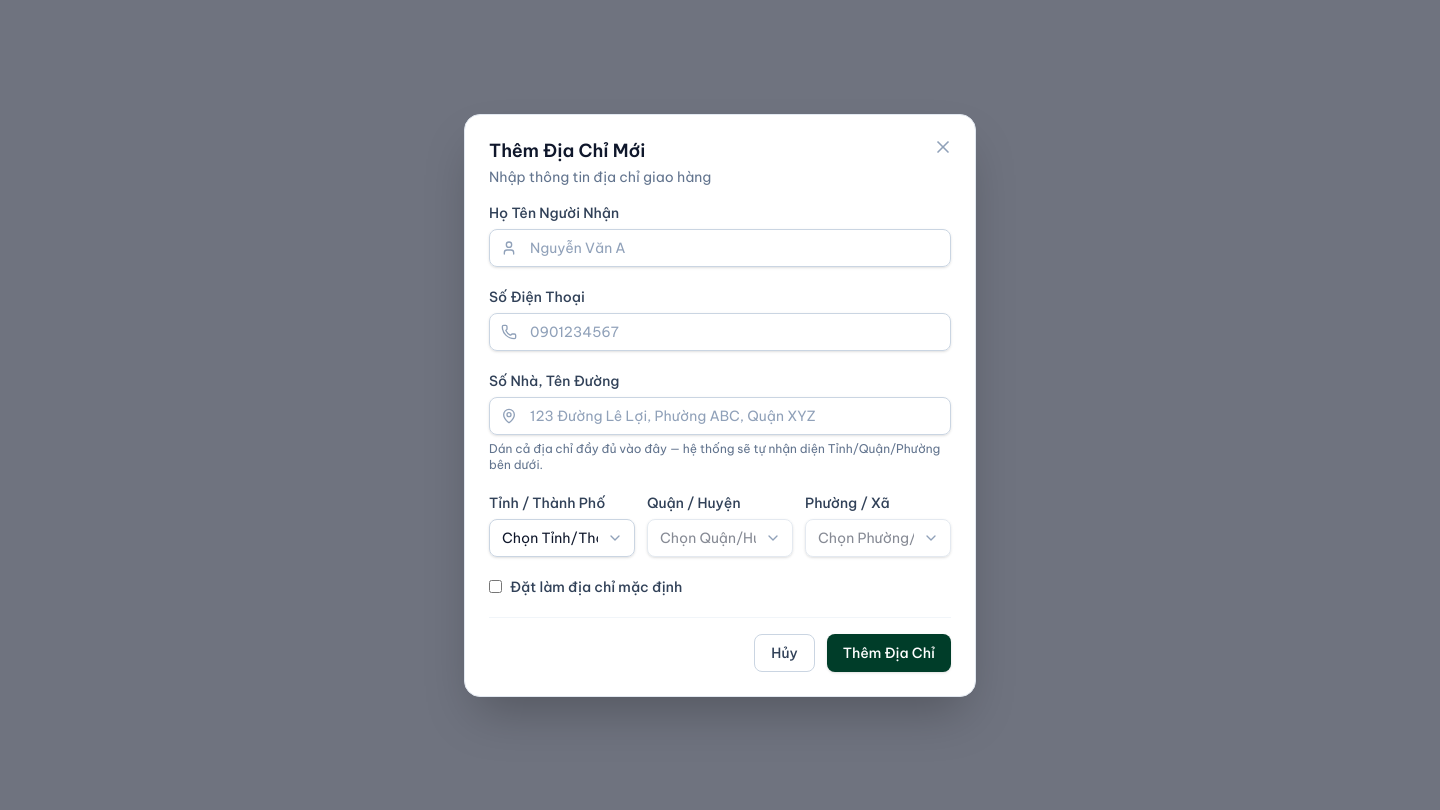
it: AddressFormModal › strips non-digit characters and caps the phone number at 10 digits
Type "09-11 222 333 999" into the field labelled "Số Điện Thoại" at point(720, 332), box [489,312,951,350]
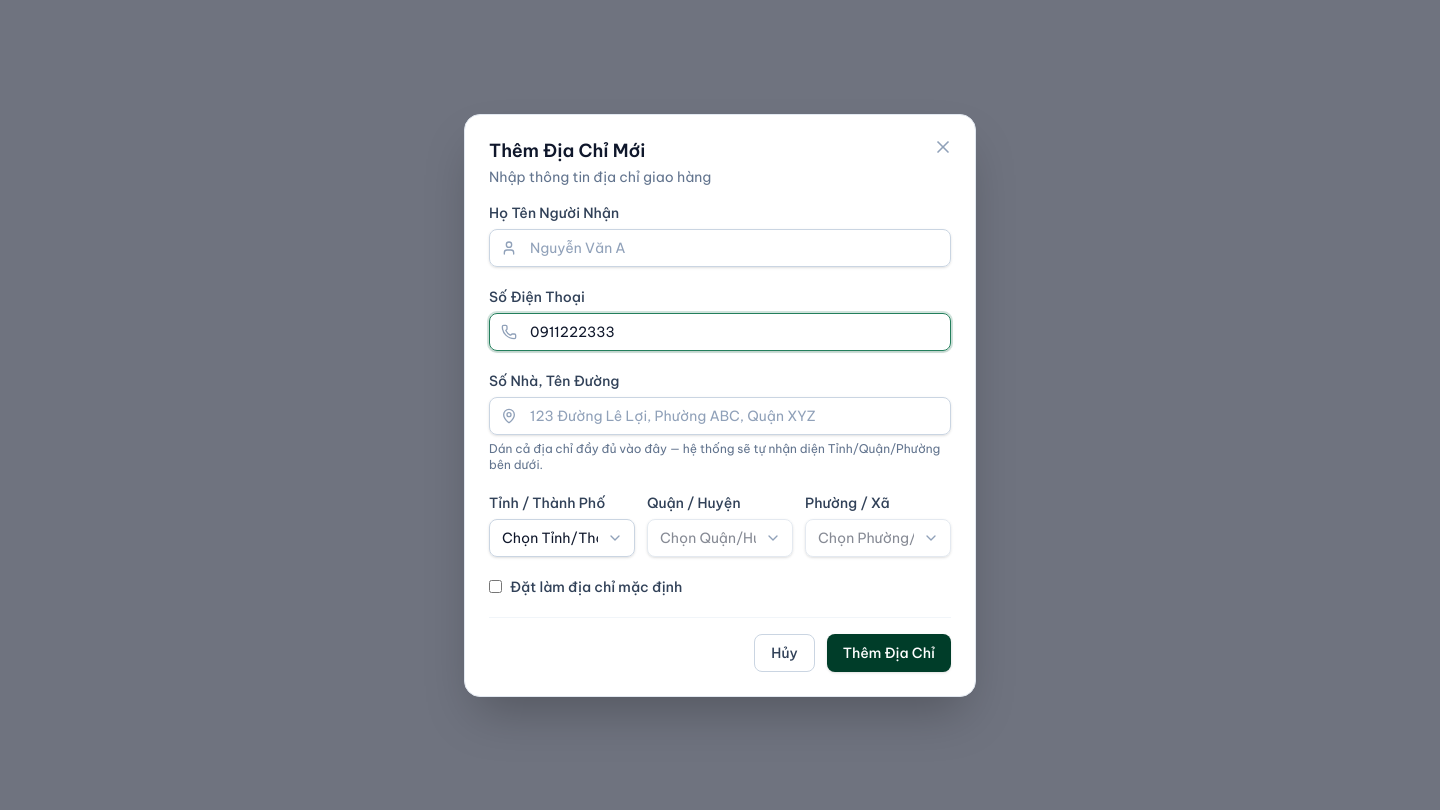
Expected: the field labelled "Số Điện Thoại" holds "0911222333", [489,312,951,350]
